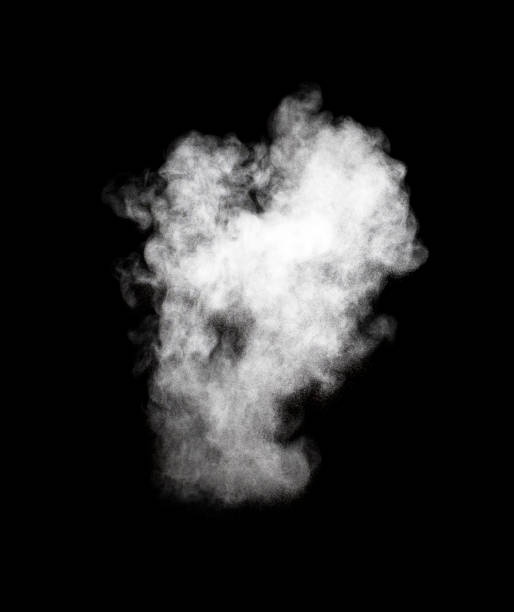smoke: (115, 85, 418, 502)
